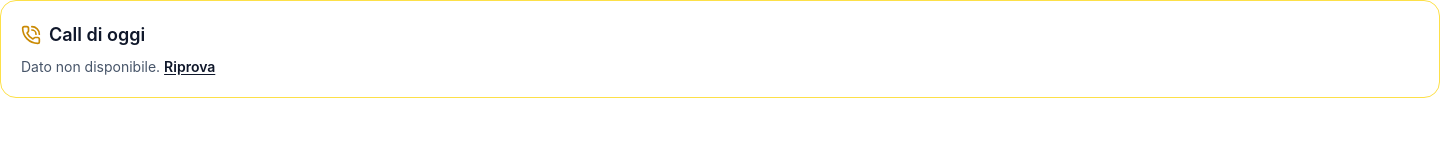
se la fonte non risponde NON dice 'nessuna call' e permette di riprovare
Check: the text "Dato non disponibile. Riprova" is shown, box [21,57,215,77]
Check: the text "Nessuna call oggi" is not shown
Click the button "Riprova": (190, 67) [164,57,215,77]
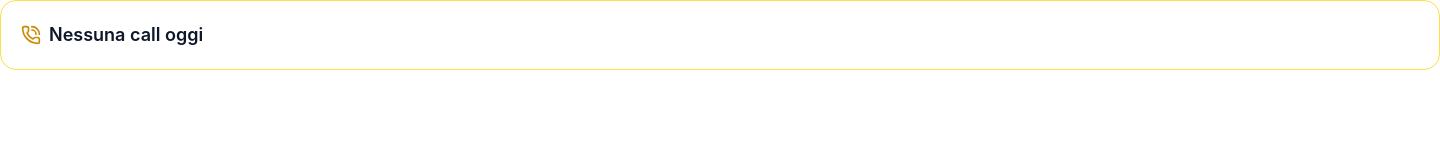
Check: the heading "Nessuna call oggi" is shown, box [49,21,203,49]
